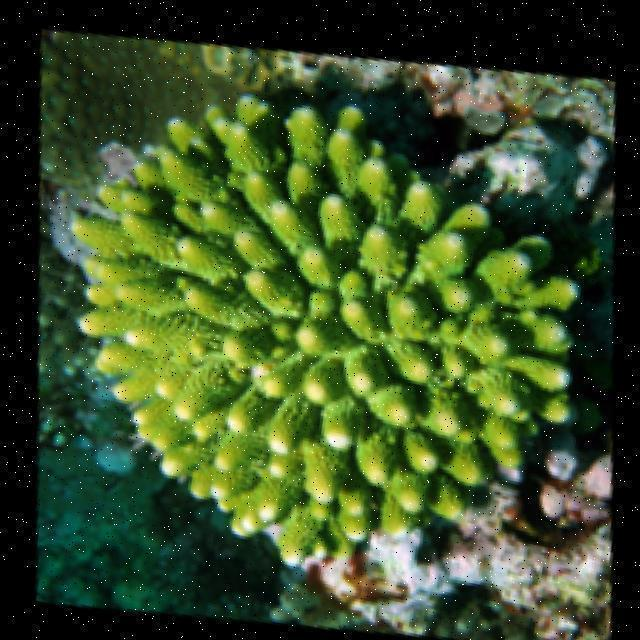Healthy Coral: (73, 77, 573, 524)
